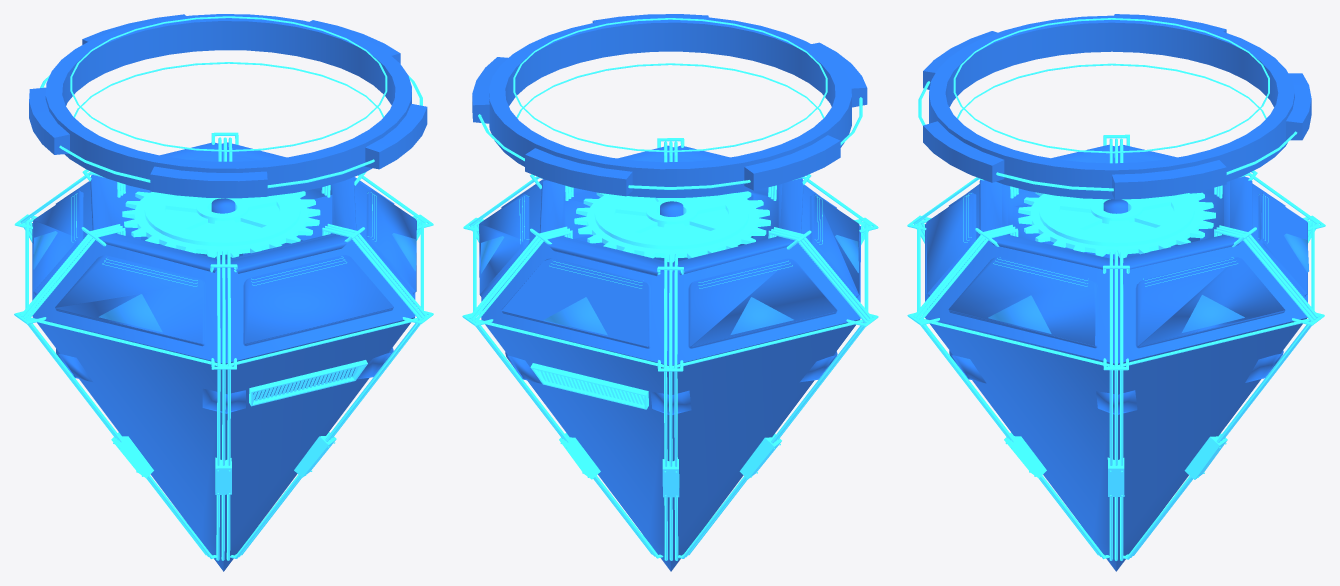
The model's file is zuanshi.gltf.
3 views of the same model, side by side, from view 1: azimuth 30°, elevation 25°; view 2: azimuth 150°, elevation 25°; view 3: azimuth 270°, elevation 25° (orthographic).
Parts seen in each view (by area): view 1: E, B, C, F, D, A, G; view 2: E, B, C, F, D, A, G; view 3: E, B, C, F, D, A, G.
Boxes of the visible parts, x1,y1,x2,y2 form: E: [32, 142, 415, 571]; B: [29, 14, 427, 198]; C: [32, 177, 416, 413]; F: [14, 132, 433, 560]; D: [122, 191, 320, 257]; A: [40, 16, 422, 188]; G: [33, 231, 416, 332]; E: [481, 145, 860, 571]; B: [472, 14, 867, 197]; C: [479, 179, 859, 414]; F: [462, 138, 878, 560]; D: [574, 191, 770, 262]; A: [478, 18, 862, 189]; G: [481, 235, 858, 335]; E: [925, 144, 1307, 571]; B: [923, 14, 1311, 199]; C: [926, 185, 1307, 414]; F: [907, 134, 1325, 560]; D: [1018, 192, 1215, 257]; A: [918, 18, 1297, 191]; G: [988, 233, 1309, 333].
Size of the model in its own units: 4.77 by 5.49 by 4.27.
